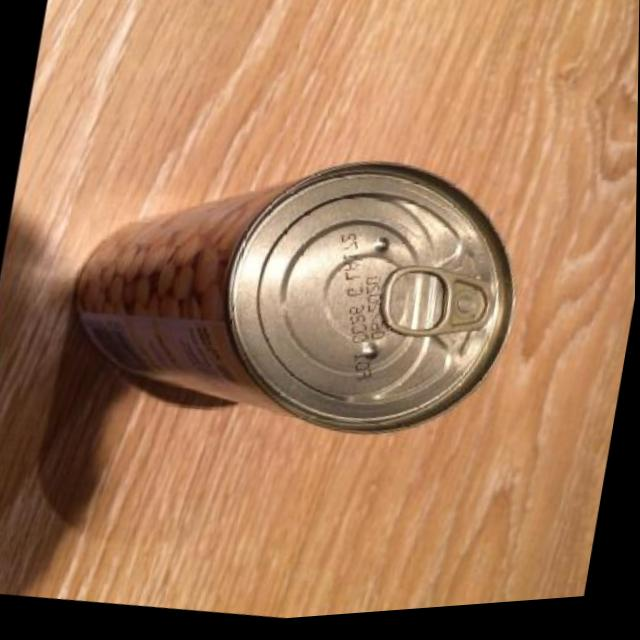metal: (51, 102, 540, 480)
